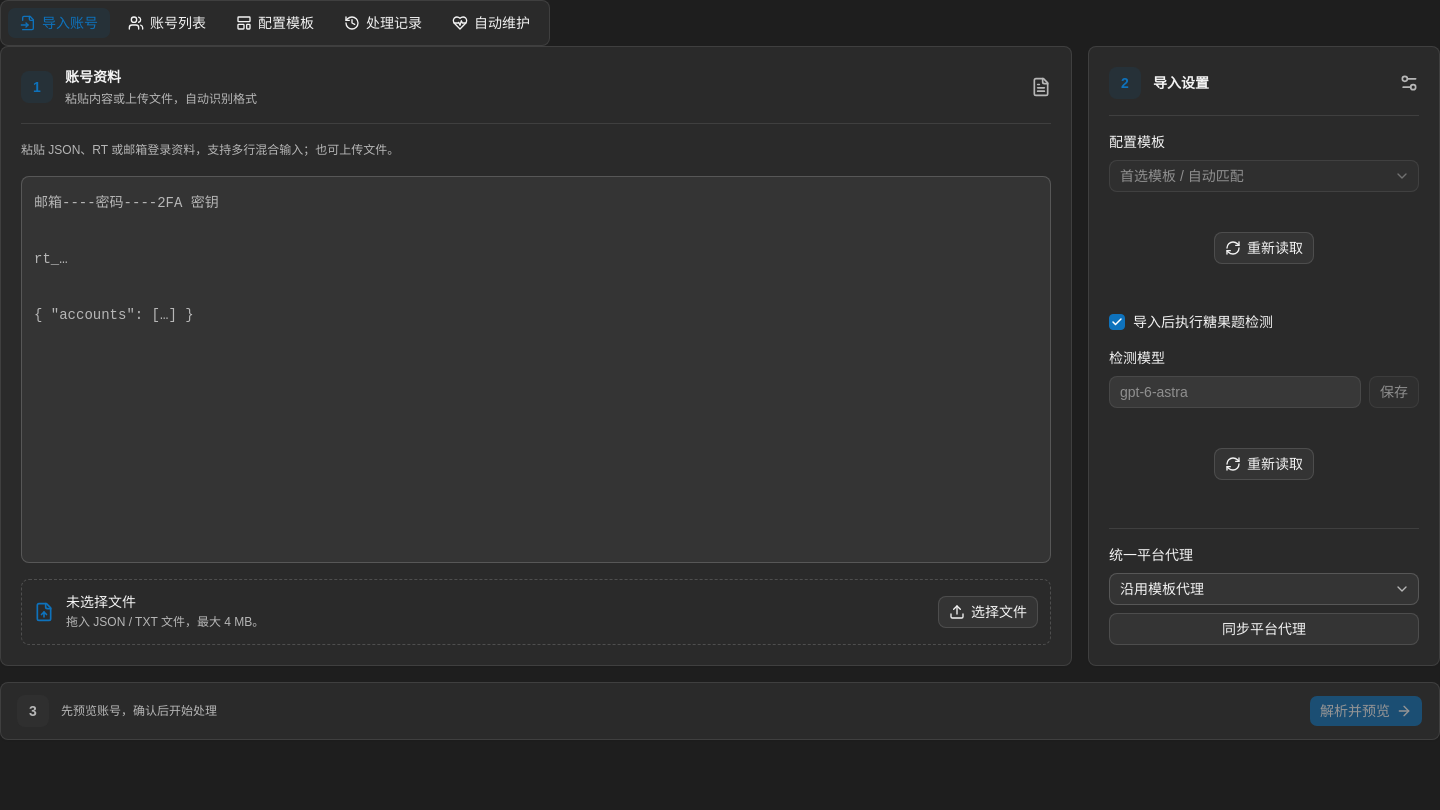
Test: 新版工作台默认导航包含账号列表且不再挂载旧工具入口
Click the tab "账号列表".
click(167, 23)  # box [115,7,219,39]
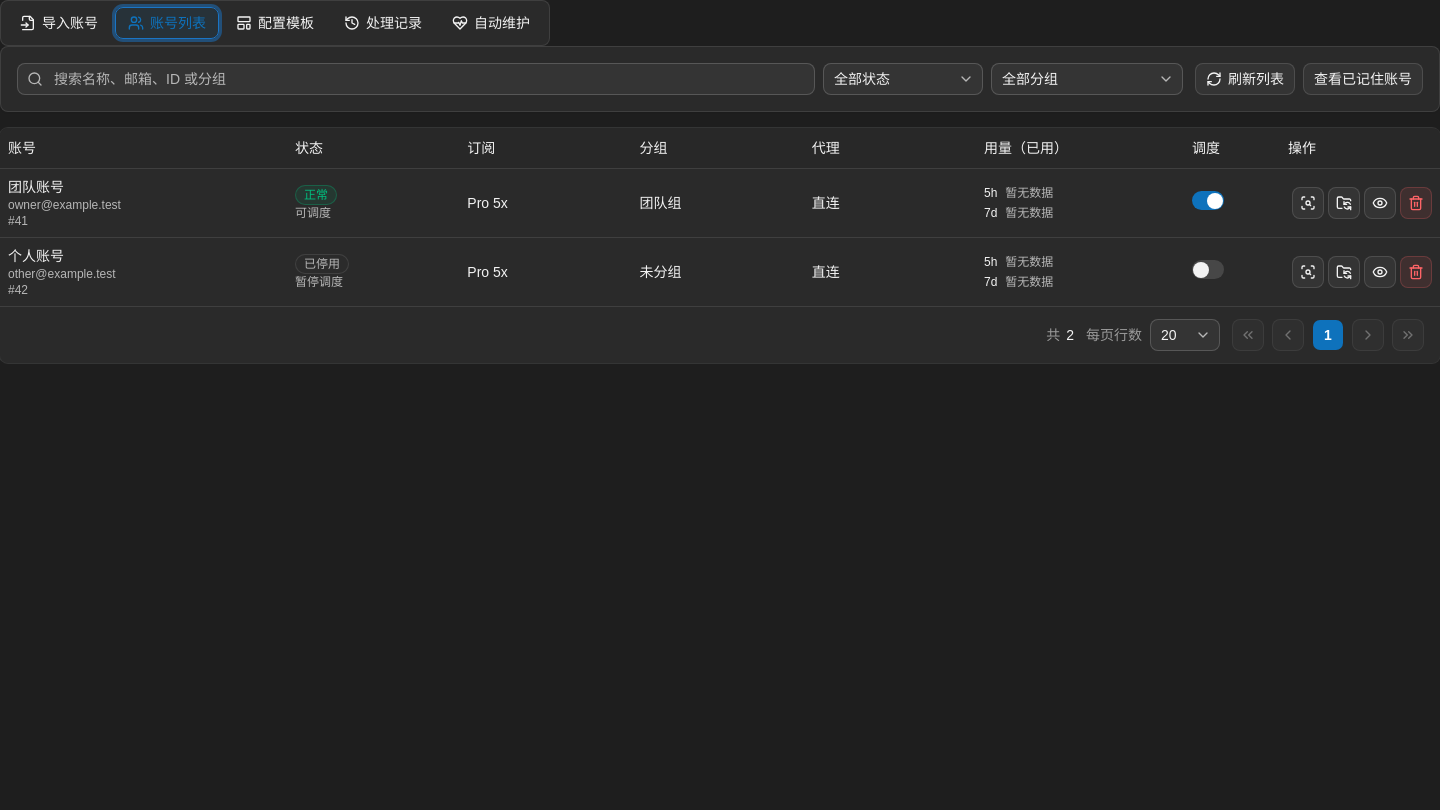
Expected: the table named "账号列表" is shown, [0,128,1439,306]
